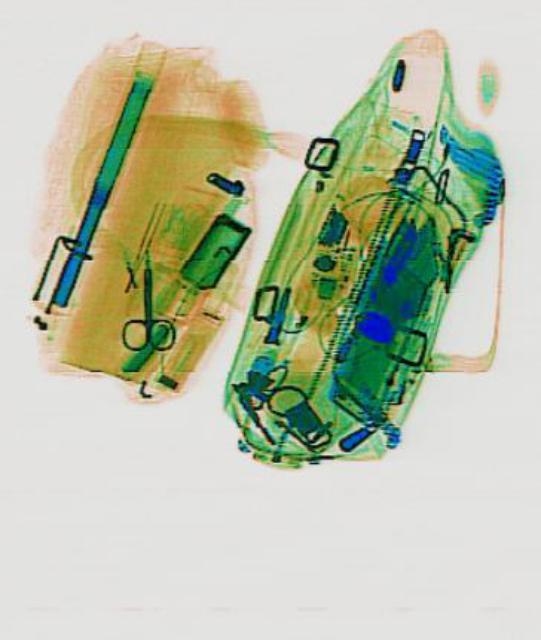Scissors: (117, 260, 172, 350)
